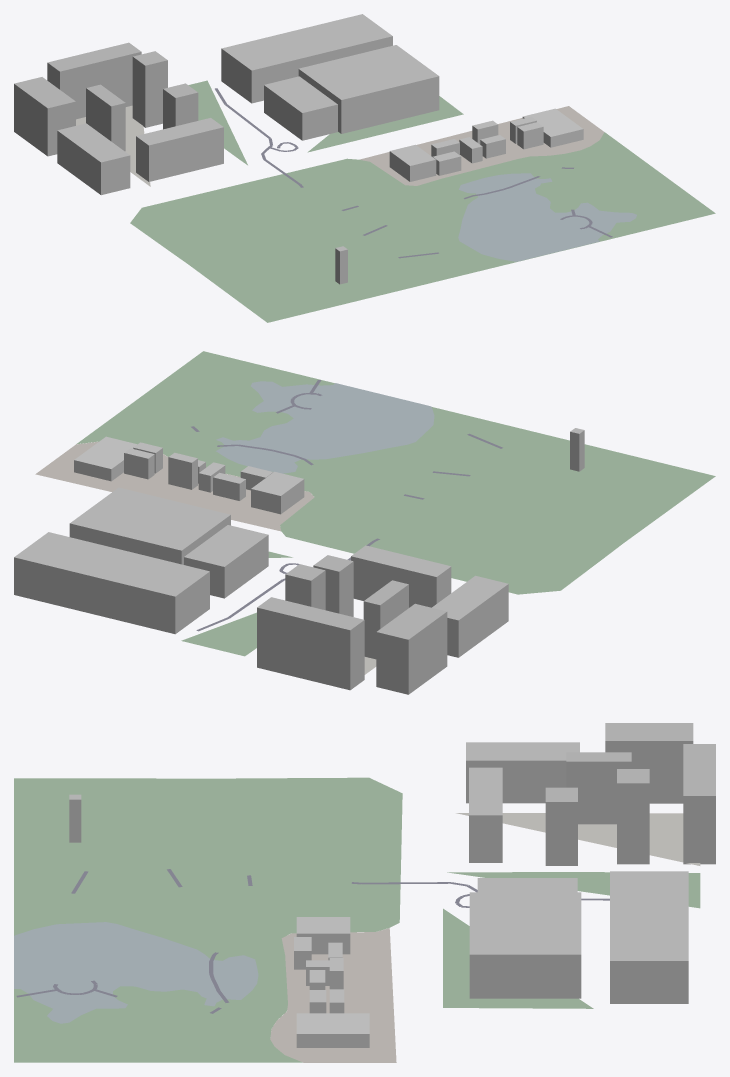
Rendered from 116_76_mid.glb.
The picture shows the model from 3 angles, top to bottom: view 1: azimuth 30°, elevation 25°; view 2: azimuth 150°, elevation 25°; view 3: azimuth 270°, elevation 25°; orthographic projection. The views are drawn at different scales.
Bounding box in the file's own units: 491 × 65.42 × 511.
